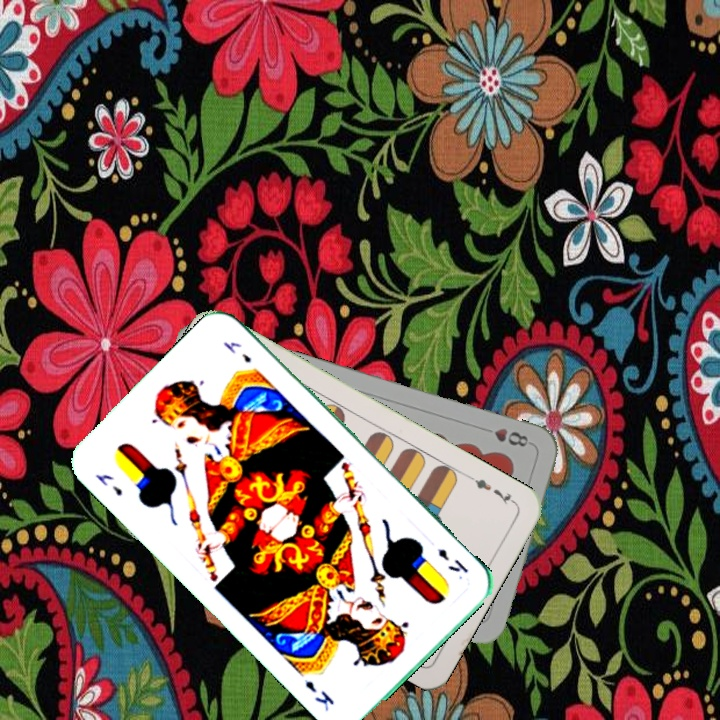E7: (465, 471, 519, 508)
EK: (433, 544, 471, 576), (91, 470, 125, 499)
H8: (478, 423, 531, 450)
